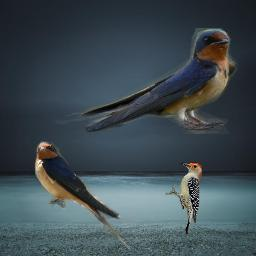Swallow: (54, 28, 238, 134), (34, 141, 132, 251)
Woodpecker: (165, 162, 202, 236)
